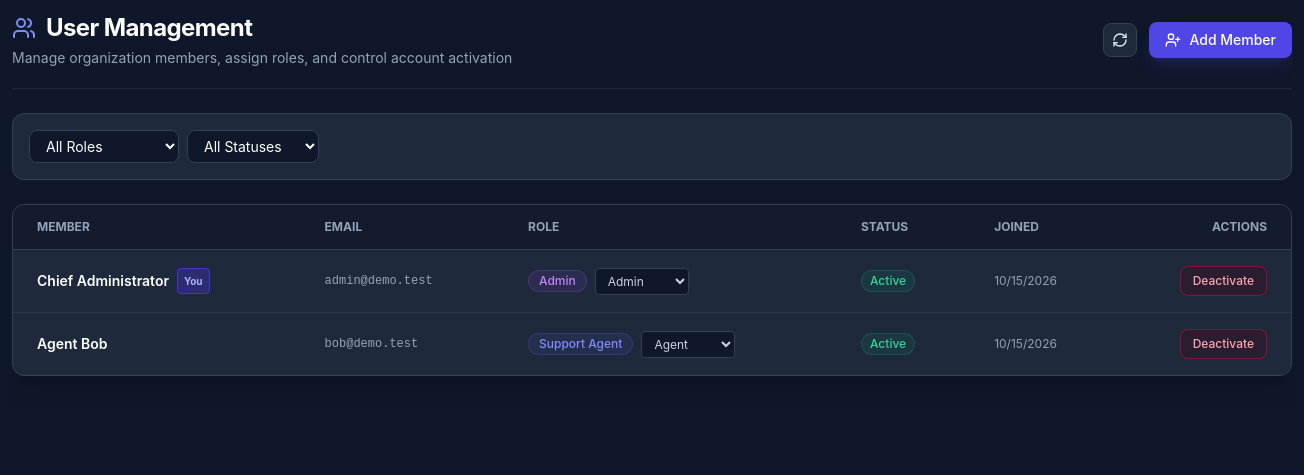
Test: AdminUsers Page Component › displays error banner if attempting to deactivate the last admin
Expected: the text "Chief Administrator" is shown, 37,271 -> 169,291
What coordinates should you click on to do the following:
click the button "Deactivate" in the row of "Chief Administrator"
I would click on:
 (1223, 281)
Its box is 1180,266 -> 1267,296.
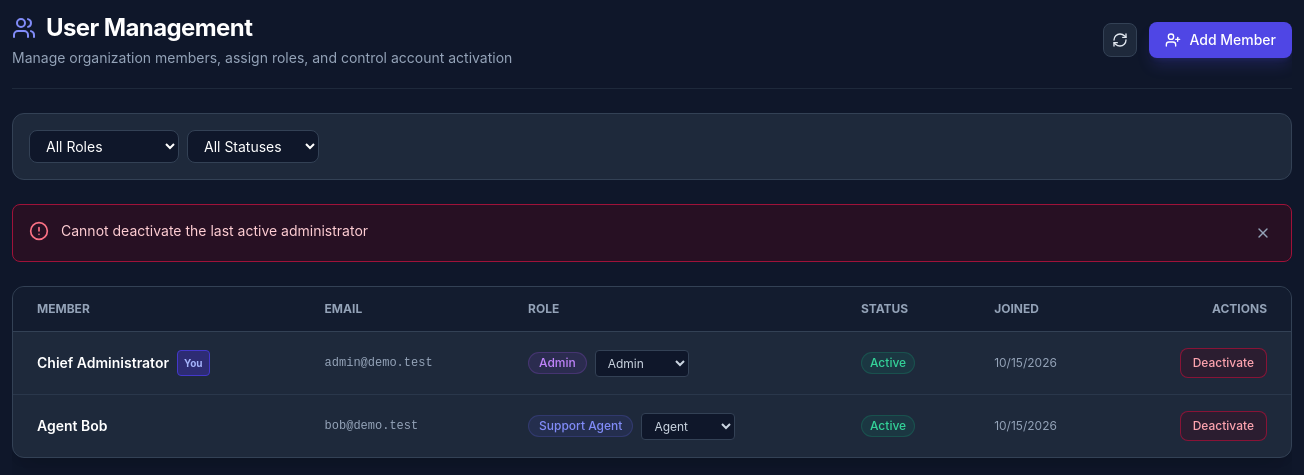
Expected: the text "Cannot deactivate the last active administrator" is shown, 61,222 -> 368,239
